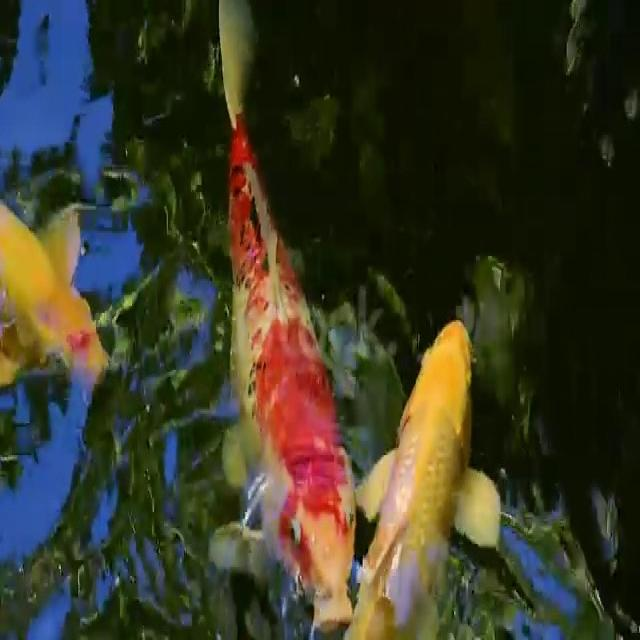fish: (198, 5, 365, 640), (350, 317, 494, 640), (0, 191, 121, 409)
